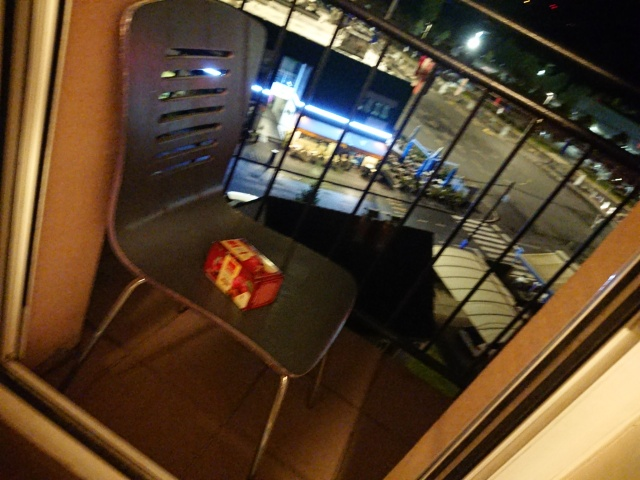Franck Apple Cinnamon Tea 60g: (199, 234, 288, 316)
